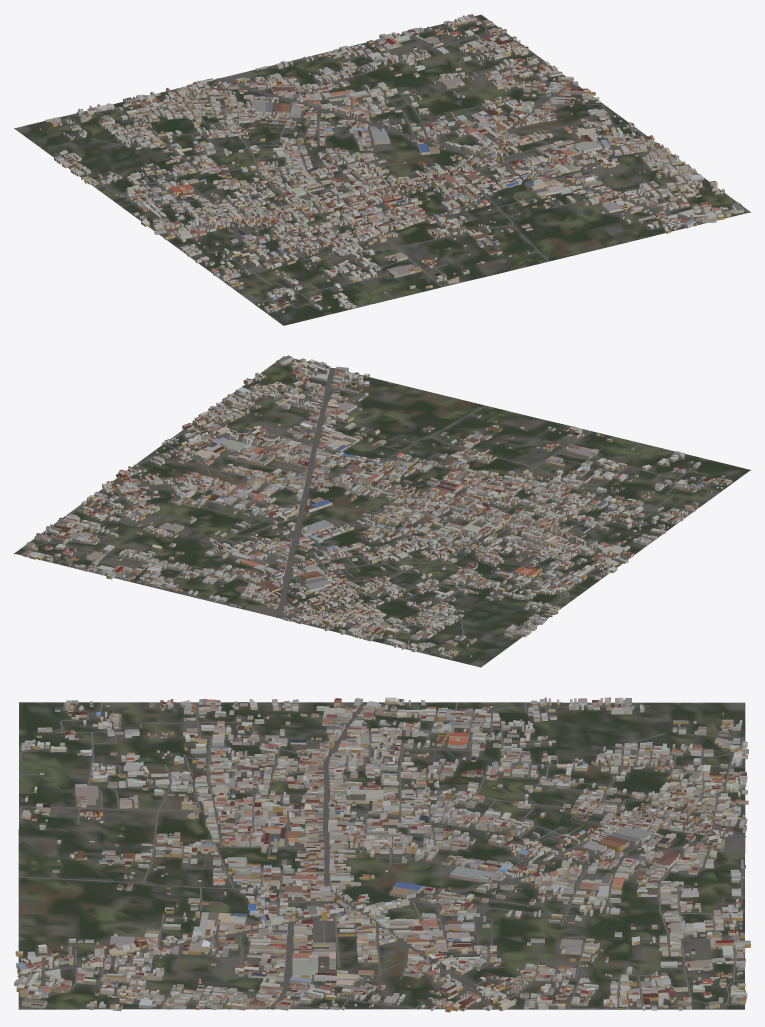
3 views of the same model, one above another, from view 1: azimuth 30°, elevation 25°; view 2: azimuth 150°, elevation 25°; view 3: azimuth 270°, elevation 25° (orthographic). The views are drawn at different scales.
Visible parts, largest first — view 1: ground, buildings, roads; view 2: ground, buildings, roads; view 3: ground, buildings, roads.
Part boxes in pixels (bbox=[...]): ground: bbox=[14, 14, 750, 325]; buildings: bbox=[39, 14, 743, 312]; roads: bbox=[55, 19, 738, 313]; ground: bbox=[14, 356, 750, 667]; buildings: bbox=[22, 355, 731, 659]; roads: bbox=[21, 359, 733, 653]; ground: bbox=[18, 702, 745, 1009]; buildings: bbox=[14, 697, 750, 1012]; roads: bbox=[17, 702, 746, 1009].
Size of the model in its own units: 1422 by 22.61 by 1421.
